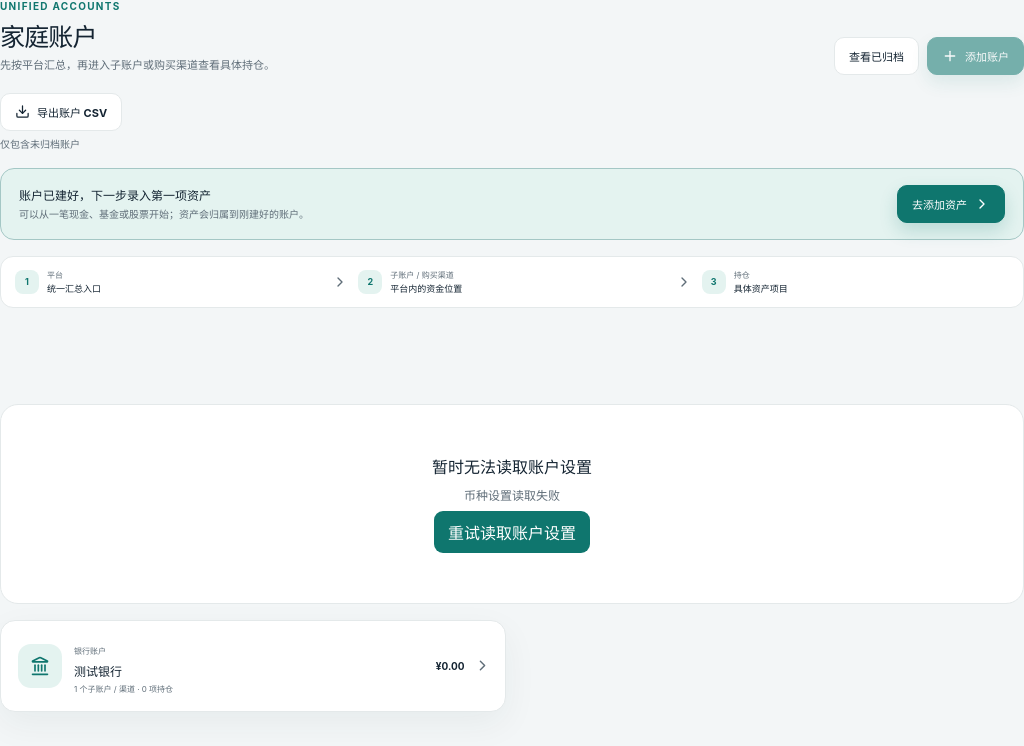
Test: account data reliability › explains unavailable form settings and enables add and edit after retry
Expected: the message shows "币种设置读取失败", [464,488,560,503]
Expected: the button "添加账户" is disabled, [927,37,1023,75]
Click the button "银行账户 测试银行 1 个子账户 / 渠道 · 0 项持仓 ¥0.00". click: (40, 666)
box: [0,620,506,712]
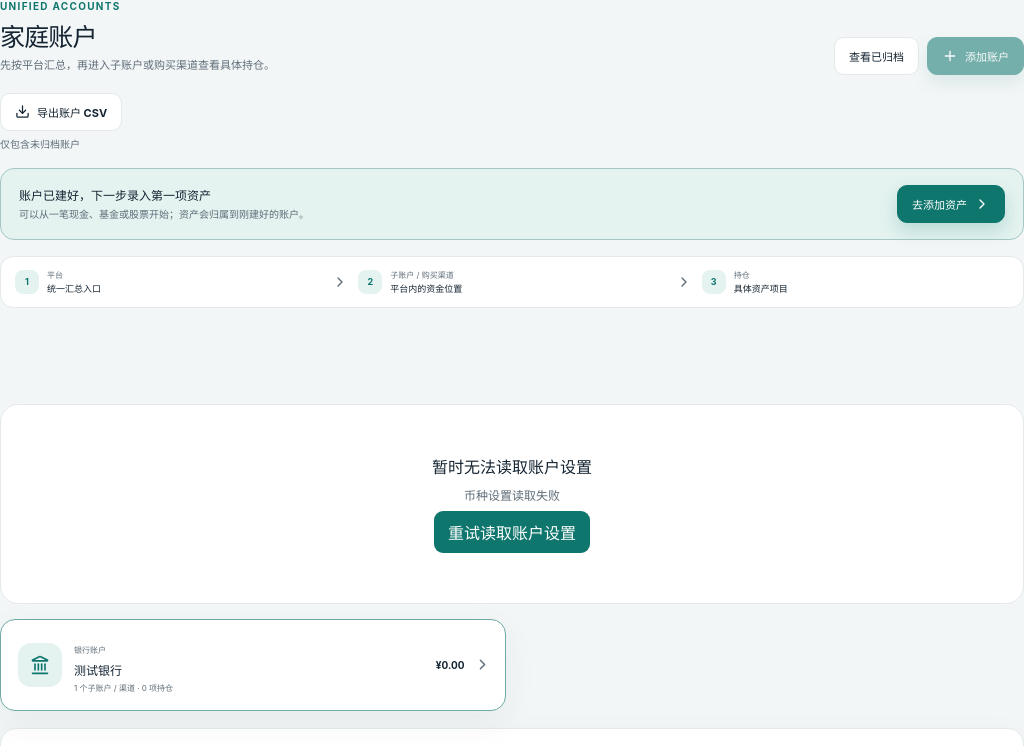
Click the button "重试读取账户设置". click: (512, 532)
box: [434,511,590,553]
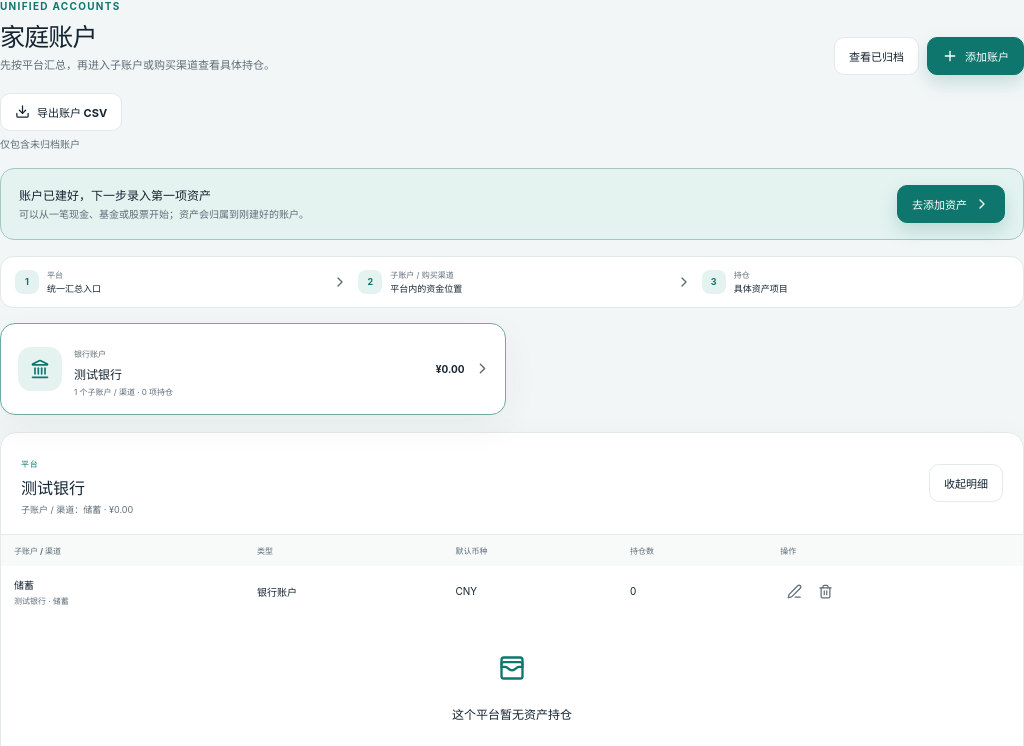
Expected: the button named "修改 测试银行 · 储蓄" is enabled
Click the button named "修改 测试银行 · 储蓄". click: (794, 591)
box: [780,577,808,605]
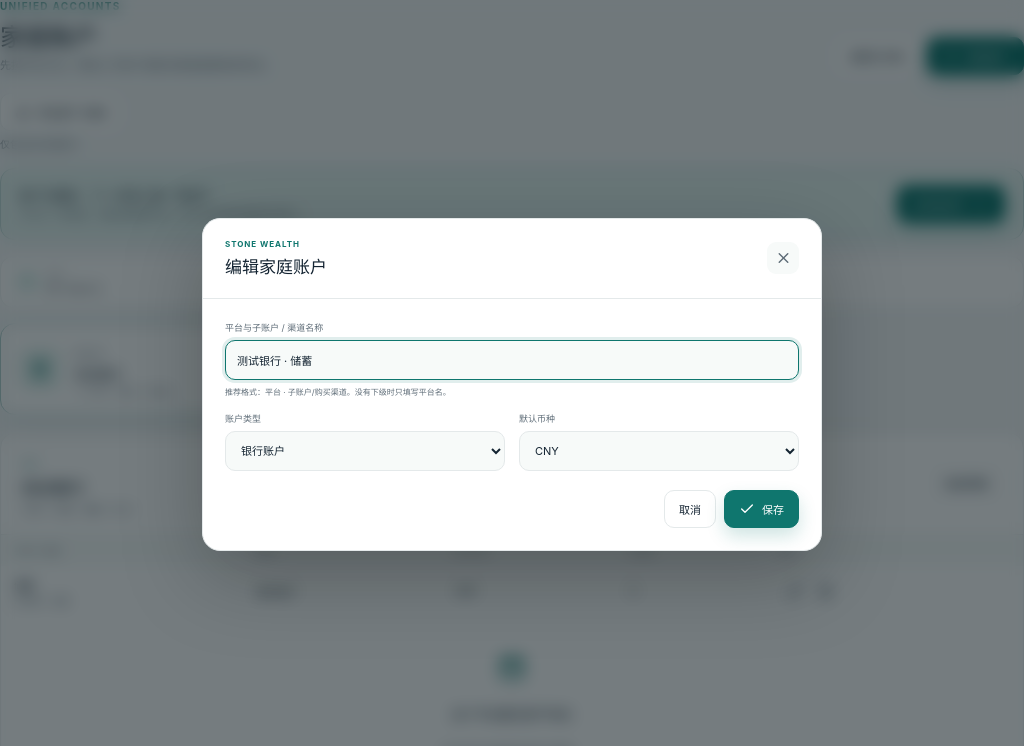
Expected: the dialog "编辑家庭账户" is shown, [202,218,822,550]
Click the button named "关闭". click: (783, 258)
box: [767,242,799,274]
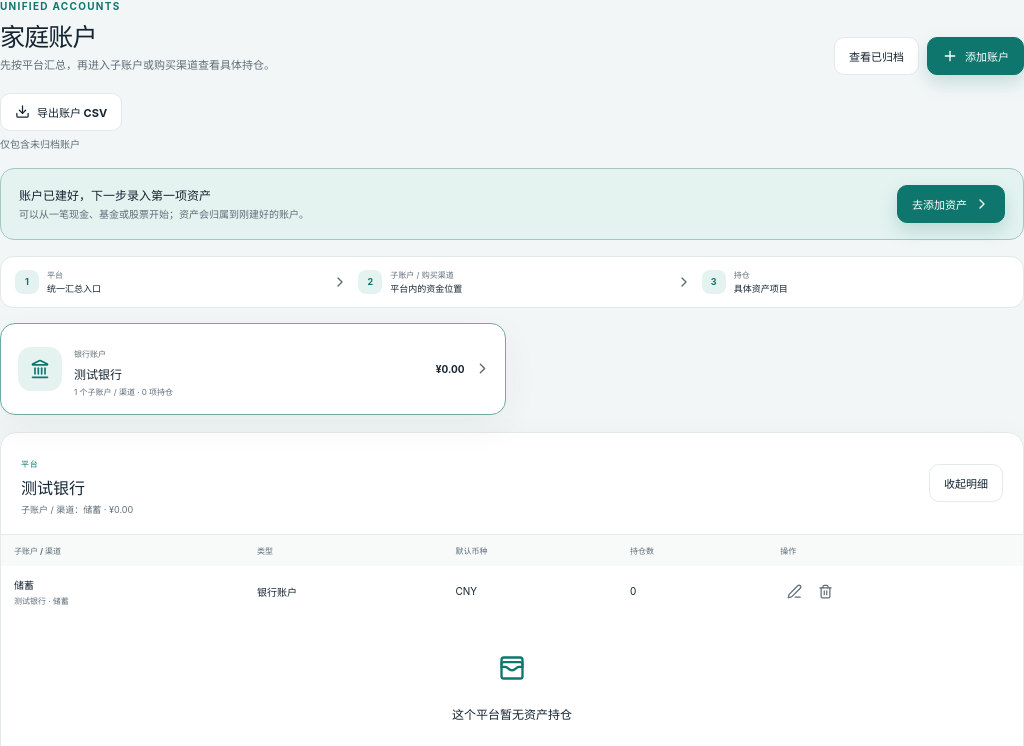
Click the button "添加账户". click: (976, 56)
box: [927,37,1023,75]
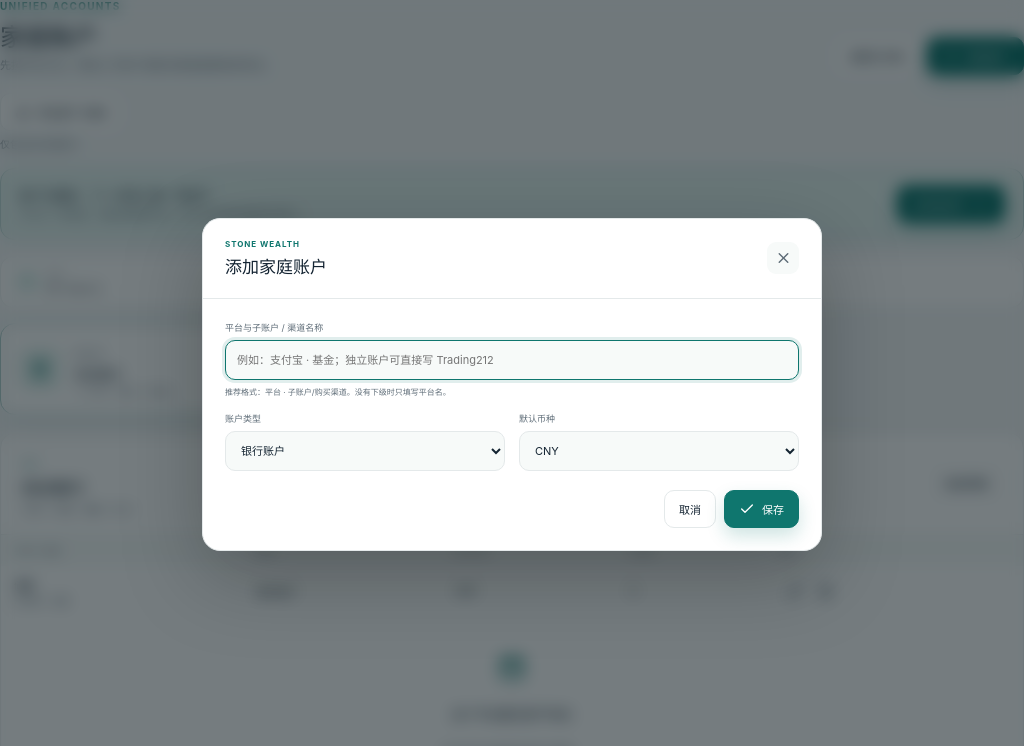
Expected: the dialog "添加家庭账户" is shown, [202,218,822,550]
